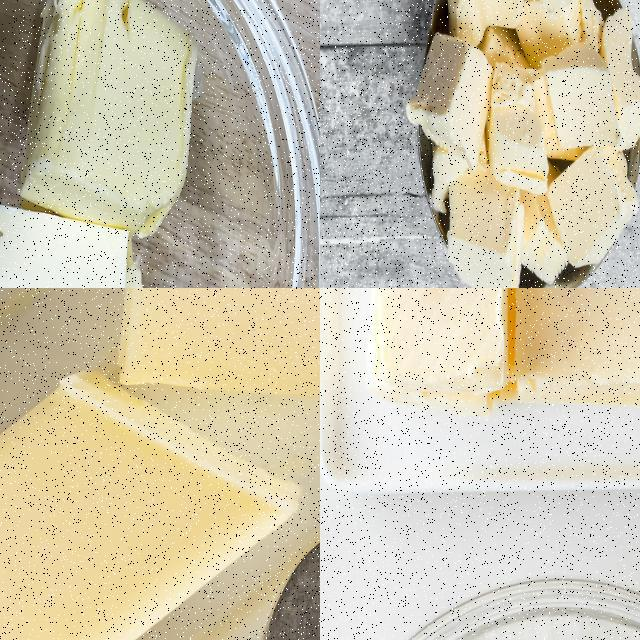Butter: (0, 331, 302, 639), (403, 0, 639, 287), (0, 0, 198, 287), (367, 288, 639, 412), (117, 288, 319, 408)
